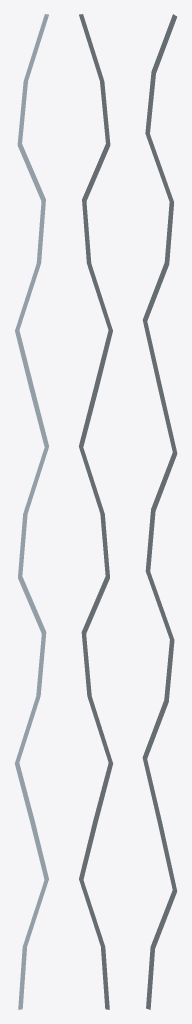
The model's file is Keqing_StarwardSword_Full_OpeningFineArc4.fbx.
3 renders of one model, left to right at view 1: azimuth 30°, elevation 25°; view 2: azimuth 150°, elevation 25°; view 3: azimuth 330°, elevation 25°, orthographic.
Visible parts, largest first — view 1: PART_OpeningFineArc4; view 2: PART_OpeningFineArc4; view 3: PART_OpeningFineArc4.
Boxes of the visible parts, x1=… form: PART_OpeningFineArc4: x1=14, y1=14, x2=48, y2=1009; PART_OpeningFineArc4: x1=79, y1=14, x2=113, y2=1009; PART_OpeningFineArc4: x1=142, y1=14, x2=177, y2=1009.
Bounding box in the file's own units: 18.04 × 495 × 8.06e-05.
